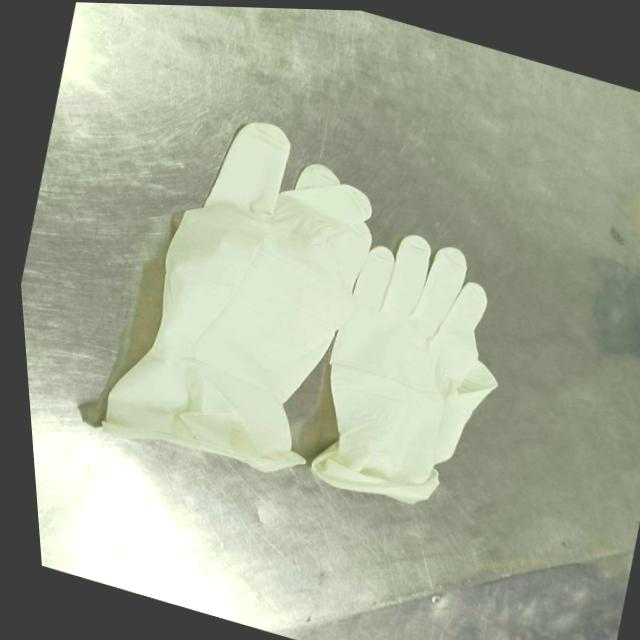General: (14, 2, 637, 638), (94, 119, 500, 506)
Infectious: (310, 234, 498, 504)
